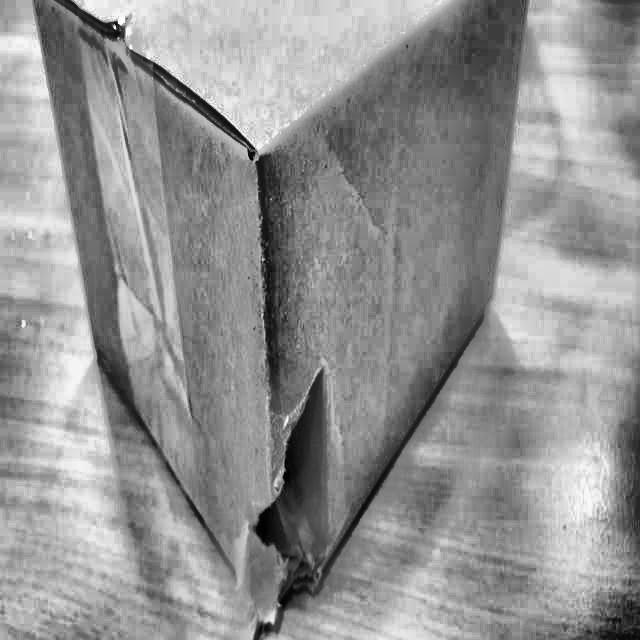box: (22, 0, 534, 570)
hole: (248, 359, 329, 612)
